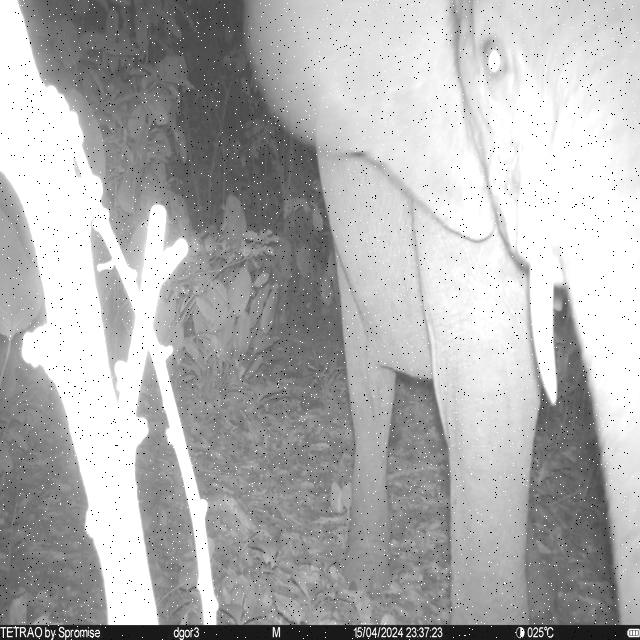ear: (241, 0, 498, 244)
elephant: (240, 0, 640, 623)
tusk: (526, 252, 561, 410)
